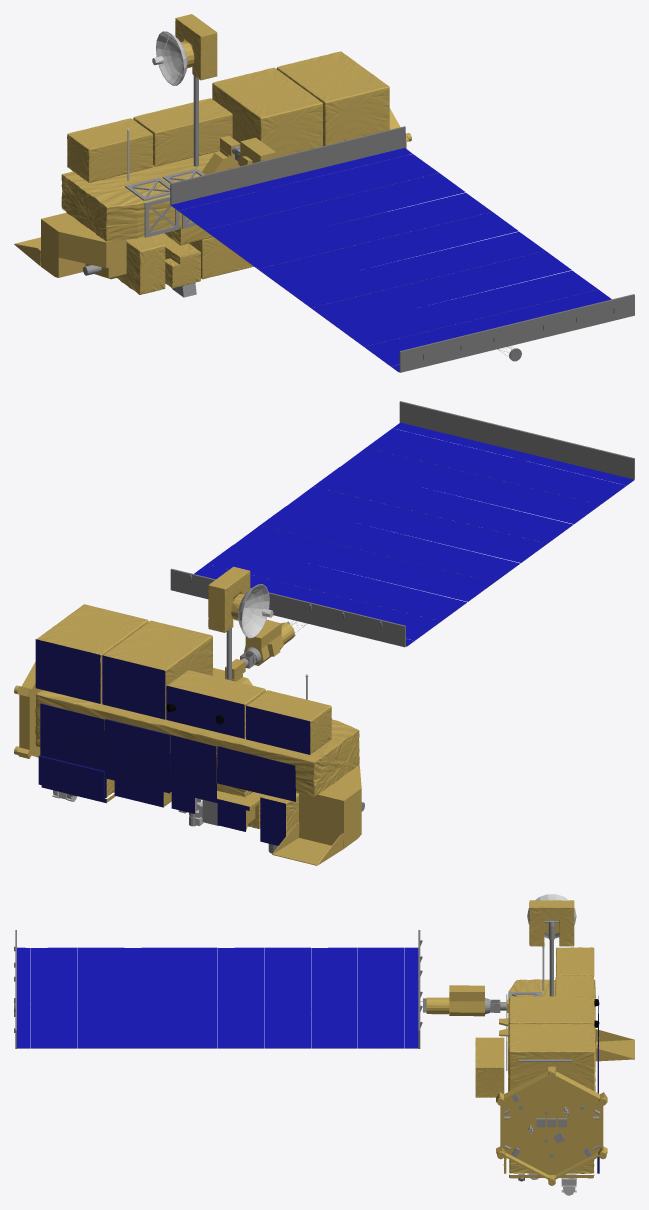
The model's file is terra.glb.
3 views of the same model, one above another, from view 1: azimuth 30°, elevation 25°; view 2: azimuth 150°, elevation 25°; view 3: azimuth 270°, elevation 25° (orthographic). The views are drawn at different scales.
Visible parts, largest first — view 1: Terra_vFINAL [Layer17], Terra_vFINAL [Layer1], Terra_vFINAL [Layer16], Terra_vFINAL [Layer18], Terra_vFINAL [Layer19], Terra_vFINAL [Layer20]; view 2: Terra_vFINAL [Layer17], Terra_vFINAL [Layer15], Terra_vFINAL [Layer1], Terra_vFINAL [Layer16], Terra_vFINAL [Layer18], Terra_vFINAL [Layer20], Terra_vFINAL [Layer19]; view 3: Terra_vFINAL [Layer17], Terra_vFINAL [Layer1], Terra_vFINAL [Layer18], Terra_vFINAL [Layer19], Terra_vFINAL [Layer16], Terra_vFINAL [Layer21].
Part boxes in pixels (bbox=[...]): Terra_vFINAL [Layer17]: bbox=[171, 148, 611, 371]; Terra_vFINAL [Layer1]: bbox=[61, 14, 389, 294]; Terra_vFINAL [Layer16]: bbox=[170, 126, 634, 372]; Terra_vFINAL [Layer18]: bbox=[14, 41, 411, 279]; Terra_vFINAL [Layer19]: bbox=[83, 75, 252, 297]; Terra_vFINAL [Layer20]: bbox=[152, 31, 187, 85]; Terra_vFINAL [Layer17]: bbox=[194, 422, 634, 646]; Terra_vFINAL [Layer15]: bbox=[35, 639, 310, 845]; Terra_vFINAL [Layer1]: bbox=[35, 566, 359, 835]; Terra_vFINAL [Layer16]: bbox=[170, 401, 634, 647]; Terra_vFINAL [Layer18]: bbox=[14, 593, 361, 865]; Terra_vFINAL [Layer20]: bbox=[238, 584, 273, 638]; Terra_vFINAL [Layer19]: bbox=[69, 628, 364, 853]; Terra_vFINAL [Layer17]: bbox=[17, 947, 418, 1048]; Terra_vFINAL [Layer1]: bbox=[475, 900, 595, 1178]; Terra_vFINAL [Layer18]: bbox=[426, 920, 634, 1185]; Terra_vFINAL [Layer19]: bbox=[485, 920, 600, 1181]; Terra_vFINAL [Layer16]: bbox=[14, 930, 426, 1048]; Terra_vFINAL [Layer21]: bbox=[527, 946, 576, 1195].
Size of the model in its own units: 13622 by 10276 by 26054.
